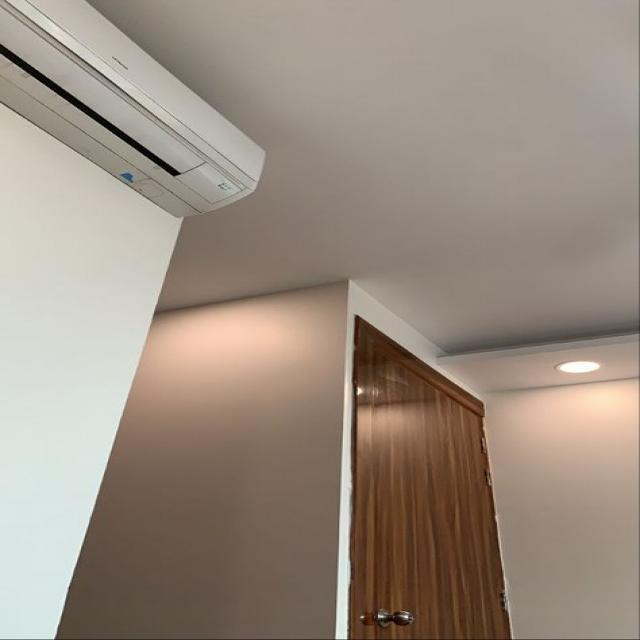AC: (0, 0, 268, 219)
